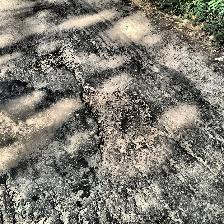pothole: (79, 86, 157, 156), (34, 46, 78, 72)
